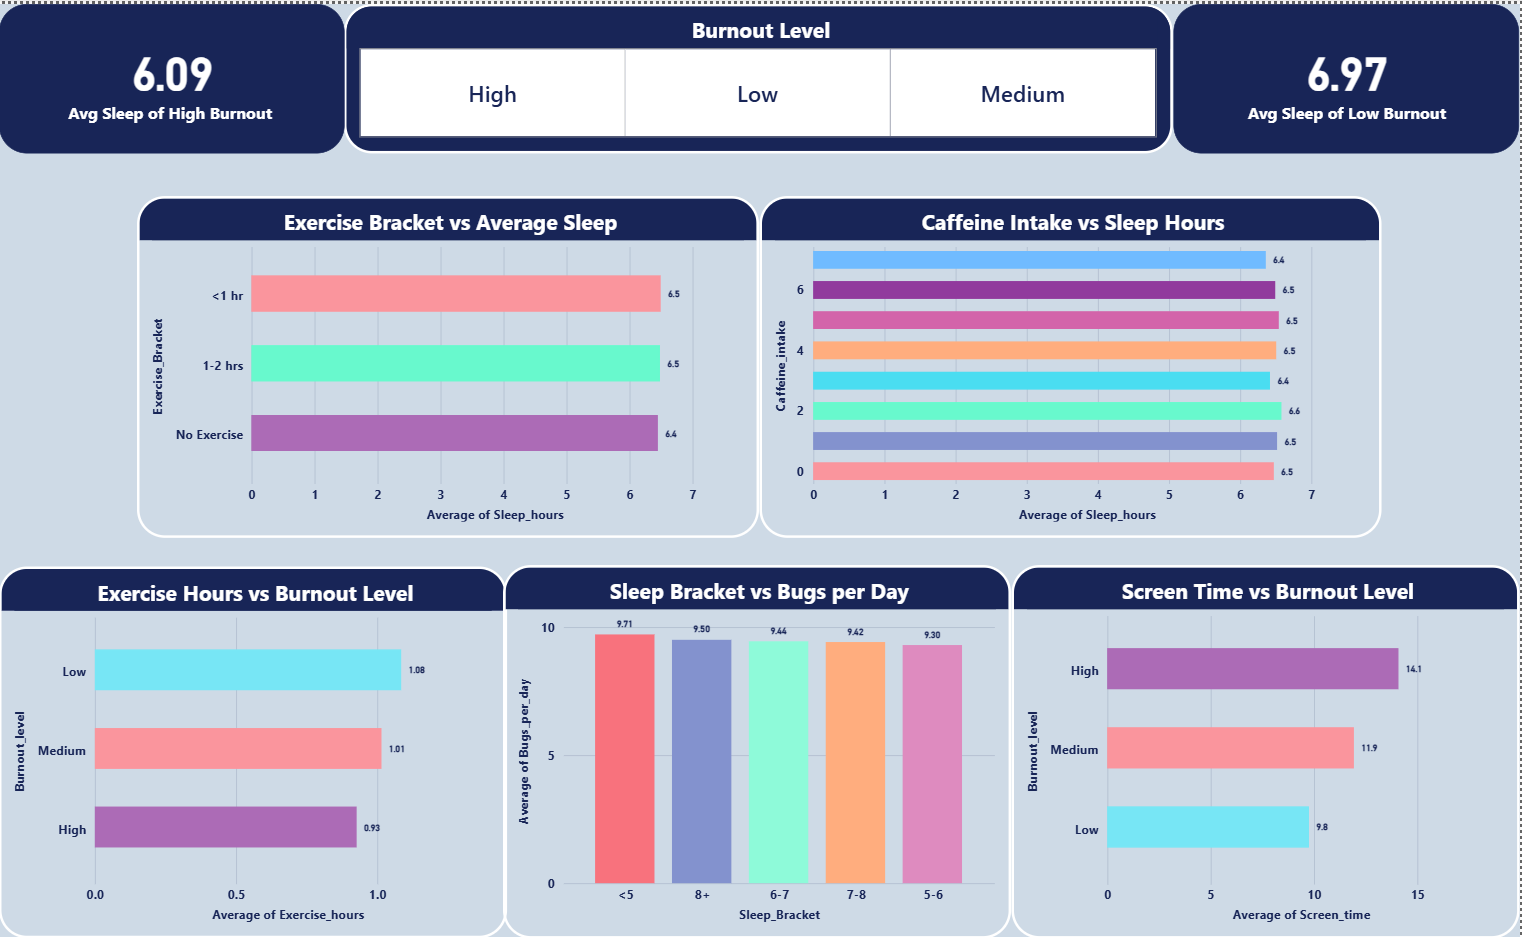

This screenshot's page, from the dashboard's own definition file:
{"tool":"powerbi","page":{"name":"Lifestyle Analysis","canvas":[1628,1000],"ordinal":2},"visuals":[{"type":"clusteredBarChart","title":"Screen Time vs Burnout Level","fields":{"Category":["Final.Burnout_level"],"Y":["Avg(Final.Screen_time)"]},"box":[1084,600,544,400],"z":0},{"type":"advancedSlicerVisual","title":"Burnout Level","fields":{"Values":["Final.Burnout_level"]},"box":[370,0,887.5,160],"z":1000},{"type":"clusteredBarChart","title":"Exercise Hours vs Burnout Level","fields":{"Category":["Final.Burnout_level"],"Y":["Avg(Final.Exercise_hours)"]},"box":[0,602,544,398],"z":2000},{"type":"clusteredBarChart","title":" Caffeine Intake vs Sleep Hours","fields":{"Y":["Avg(Final.Sleep_hours)"],"Category":["Final.Caffeine_intake"]},"box":[814,206,666,366],"z":3000},{"type":"clusteredBarChart","title":"Exercise Bracket vs Average Sleep","fields":{"Category":["Final.Exercise_Bracket"],"Y":["Avg(Final.Sleep_hours)"]},"box":[148,206,666,366],"z":4000},{"type":"columnChart","title":"Sleep Bracket vs Bugs per Day","fields":{"Category":["Final.Sleep_Bracket"],"Y":["Avg(Final.Bugs_per_day)"]},"box":[540,600,544,400],"z":5000},{"type":"card","fields":{"Values":["Final.avg sleep high burnout"]},"box":[0,0,370,160],"z":6000},{"type":"card","fields":{"Values":["Final.avg sleep low burnout"]},"box":[1257.5,0,370,160],"z":7000}]}

Visuals, with their boxes in screenshot pixels (x1, y1, x2, y2), scaled from the page's 1628x1000 canvas onto the 1522x937 screenshot:
"Screen Time vs Burnout Level" clusteredBarChart: box=[1013, 562, 1521, 936]
"Burnout Level" advancedSlicerVisual: box=[346, 0, 1176, 150]
"Exercise Hours vs Burnout Level" clusteredBarChart: box=[0, 564, 509, 936]
" Caffeine Intake vs Sleep Hours" clusteredBarChart: box=[761, 193, 1384, 536]
"Exercise Bracket vs Average Sleep" clusteredBarChart: box=[138, 193, 761, 536]
"Sleep Bracket vs Bugs per Day" columnChart: box=[505, 562, 1013, 936]
card - Final.avg sleep high burnout: box=[0, 0, 346, 150]
card - Final.avg sleep low burnout: box=[1176, 0, 1521, 150]
